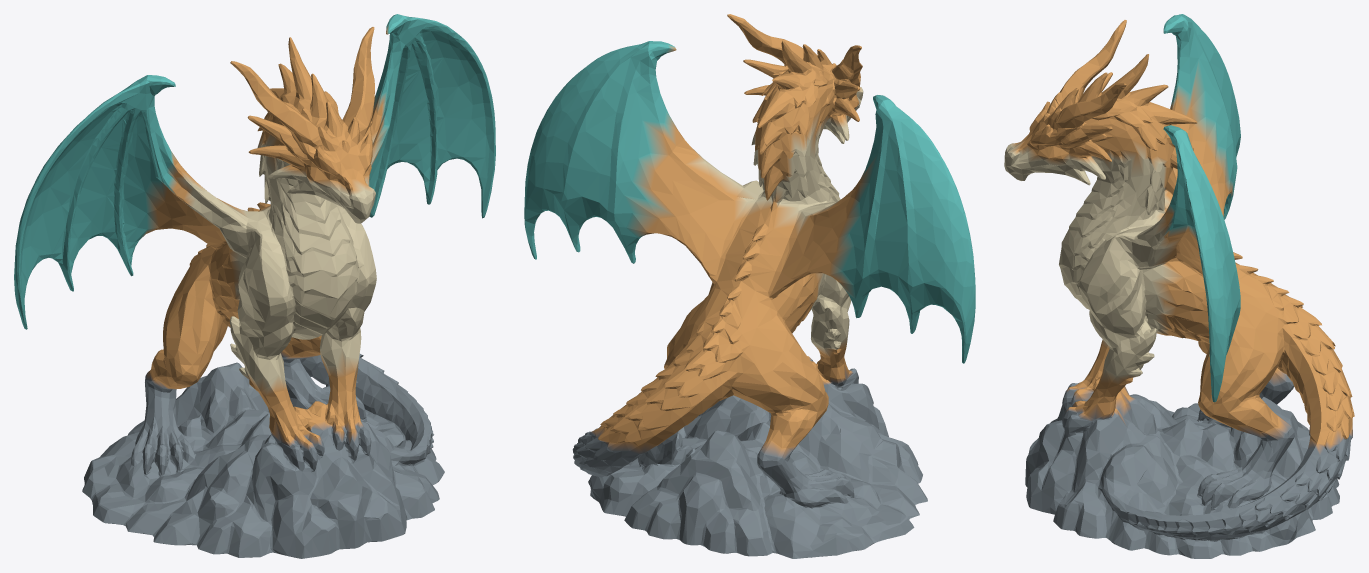
File: dragon-solid.glb
The picture shows the model from 3 angles, left to right: view 1: azimuth 30°, elevation 25°; view 2: azimuth 150°, elevation 25°; view 3: azimuth 270°, elevation 25°; orthographic projection. The views are drawn at different scales.
Parts seen in each view (by area): view 1: mesh_node; view 2: mesh_node; view 3: mesh_node.
Part boxes in pixels (x1,y1,x2,y2): mesh_node: (14, 14, 495, 558); mesh_node: (524, 14, 975, 558); mesh_node: (1004, 14, 1354, 558).
Size of the model in its own units: 2.8 by 2.6 by 1.91.
